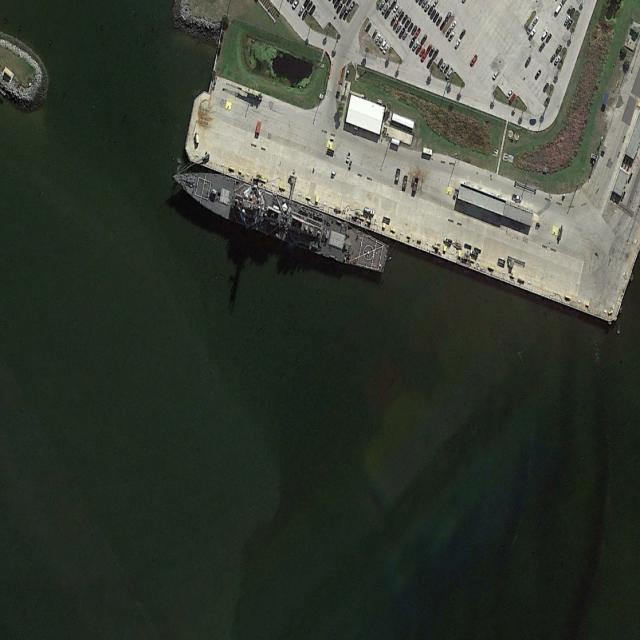Destroyer: (167, 157, 390, 279)
